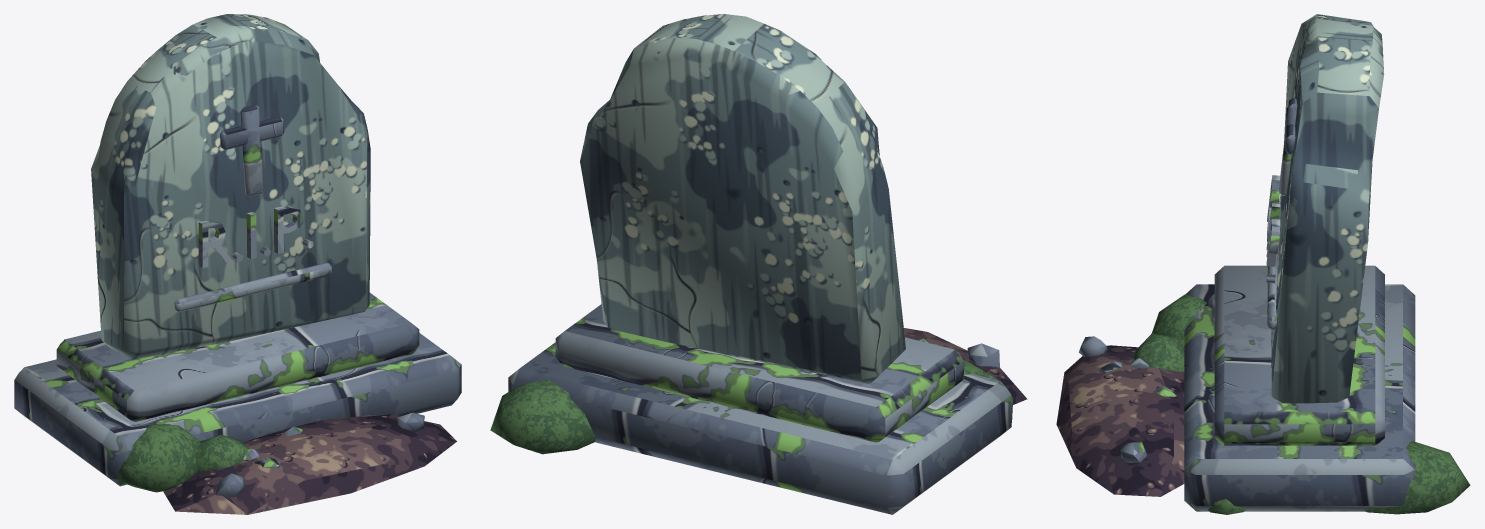
Rendered from tombstone_large.glb.
3 renders of one model, left to right at view 1: azimuth 30°, elevation 25°; view 2: azimuth 150°, elevation 25°; view 3: azimuth 270°, elevation 25°, orthographic. The views are drawn at different scales.
Parts seen in each view (by area): view 1: Tombstone; view 2: Tombstone; view 3: Tombstone.
Part boxes in pixels (x1,y1,x2,y2): Tombstone: (14,14,461,514); Tombstone: (490,14,1027,514); Tombstone: (1056,14,1470,514).
Size of the model in its own units: 1.82 by 1.82 by 1.7.
Materials: 4 (4 with a texture image).
